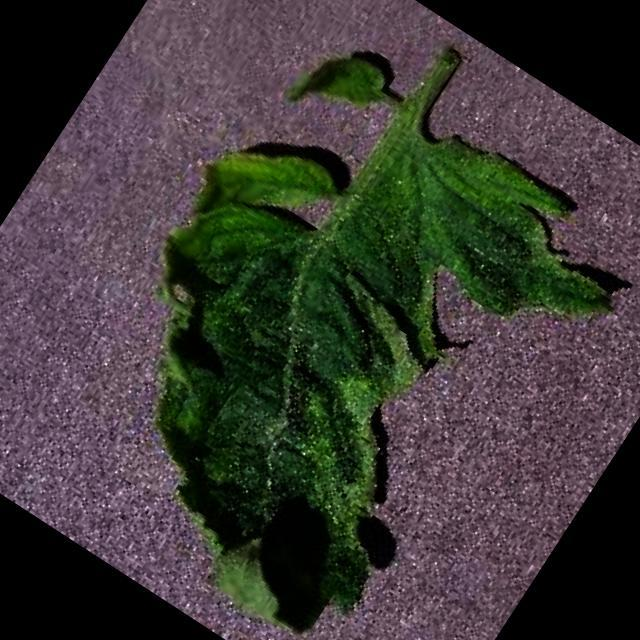Tomato mosaic virus leaf: (15, 18, 640, 640)
